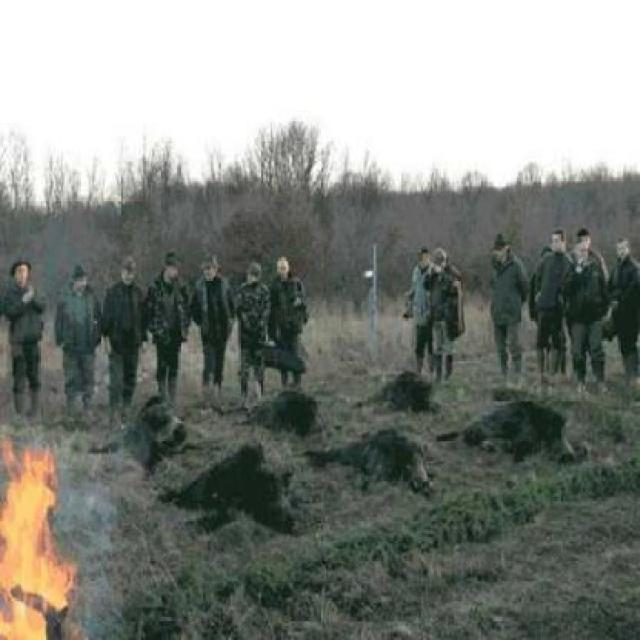Boar: (159, 448, 323, 557), (451, 386, 591, 491), (336, 417, 446, 534), (237, 371, 329, 446), (123, 396, 200, 462), (350, 371, 452, 415)
